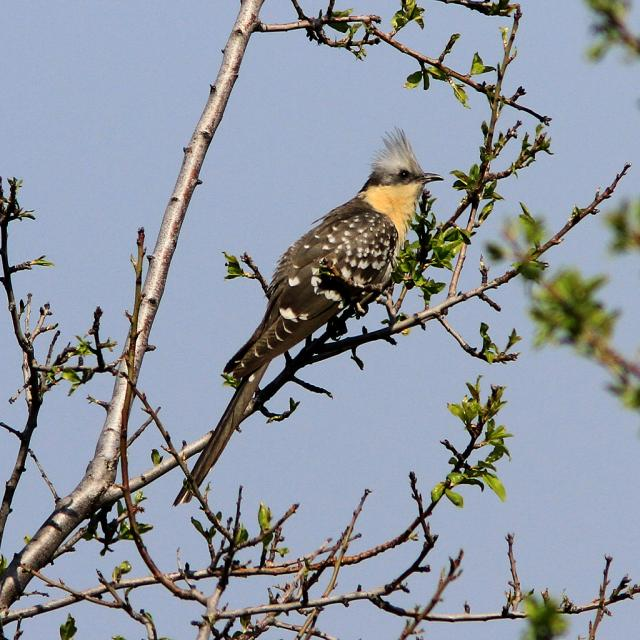bird: (162, 132, 440, 500)
